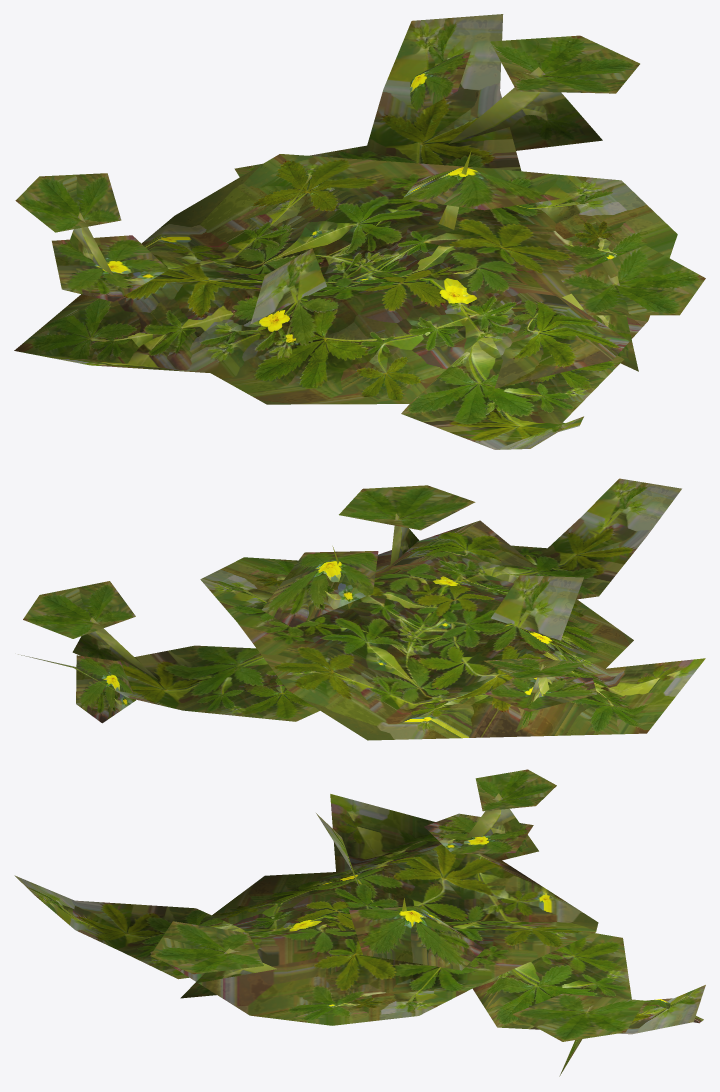
Rendered from SM_Plant_Small_01.fbx.
3 views of the same model, one above another, from view 1: azimuth 30°, elevation 25°; view 2: azimuth 150°, elevation 25°; view 3: azimuth 270°, elevation 25° (orthographic). The views are drawn at different scales.
Visible parts, largest first — view 1: SM_Plant_Small_01_LOD0; view 2: SM_Plant_Small_01_LOD0; view 3: SM_Plant_Small_01_LOD0.
Part boxes in pixels (bbox=[...]): SM_Plant_Small_01_LOD0: bbox=[14, 14, 705, 449]; SM_Plant_Small_01_LOD0: bbox=[18, 478, 705, 740]; SM_Plant_Small_01_LOD0: bbox=[14, 769, 705, 1076].
Bounding box in the file's own units: 74.77 × 82.87 × 12.55.
1 material, 1 textured.
